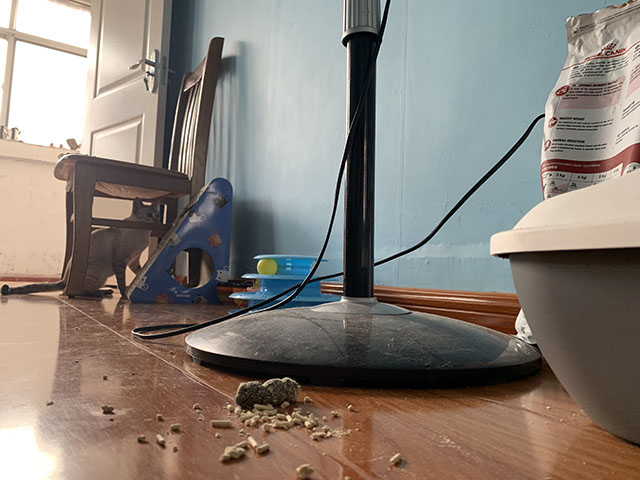feces: (234, 376, 301, 409)
stool: (53, 35, 226, 299)
wire: (130, 1, 546, 342)
